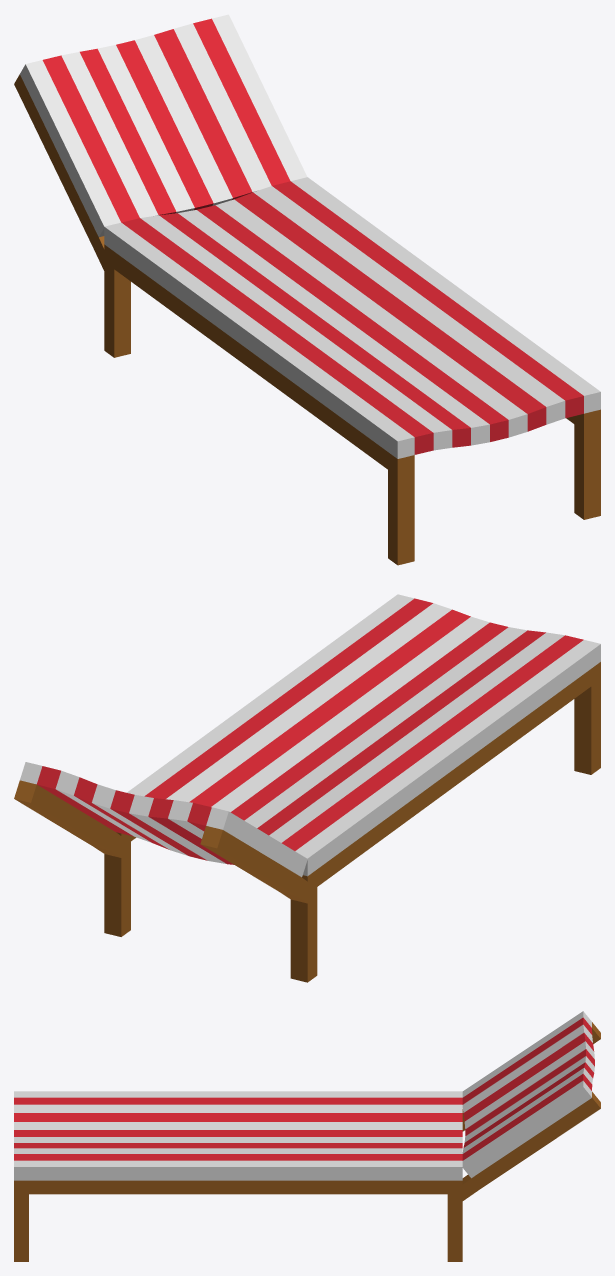
Rendered from Sun_Bed_01.fbx.
3 renders of one model, top to bottom at view 1: azimuth 30°, elevation 25°; view 2: azimuth 150°, elevation 25°; view 3: azimuth 270°, elevation 25°, orthographic. The views are drawn at different scales.
Visible parts, largest first — view 1: Sun_Bed; view 2: Sun_Bed; view 3: Sun_Bed.
Boxes of the visible parts, x1,y1,x2,y2 form: Sun_Bed: (14, 14, 600, 565); Sun_Bed: (14, 594, 600, 982); Sun_Bed: (14, 1011, 600, 1261).
Size of the model in its own units: 1.2 by 1.29 by 3.92.
